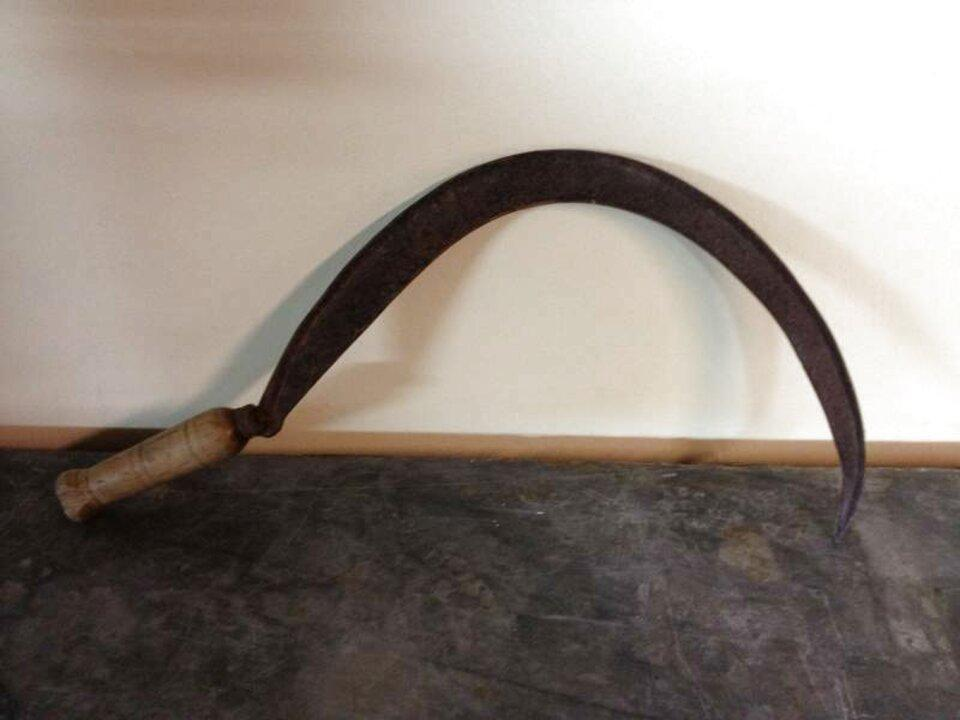foice: (55, 150, 865, 536)
